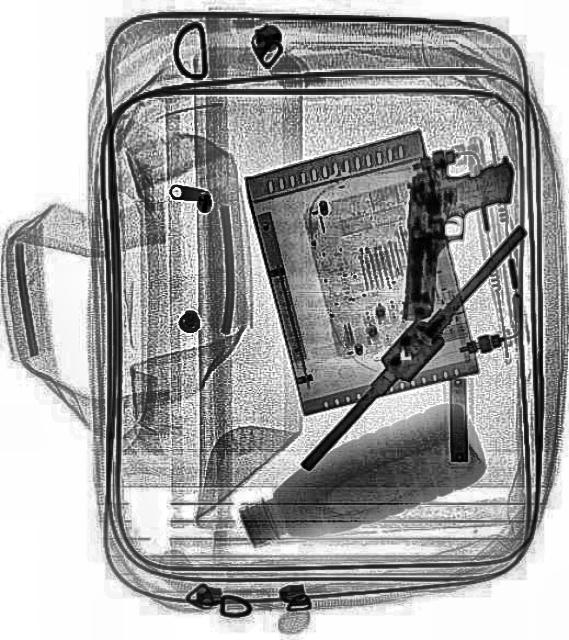Gun: (399, 144, 515, 322)
